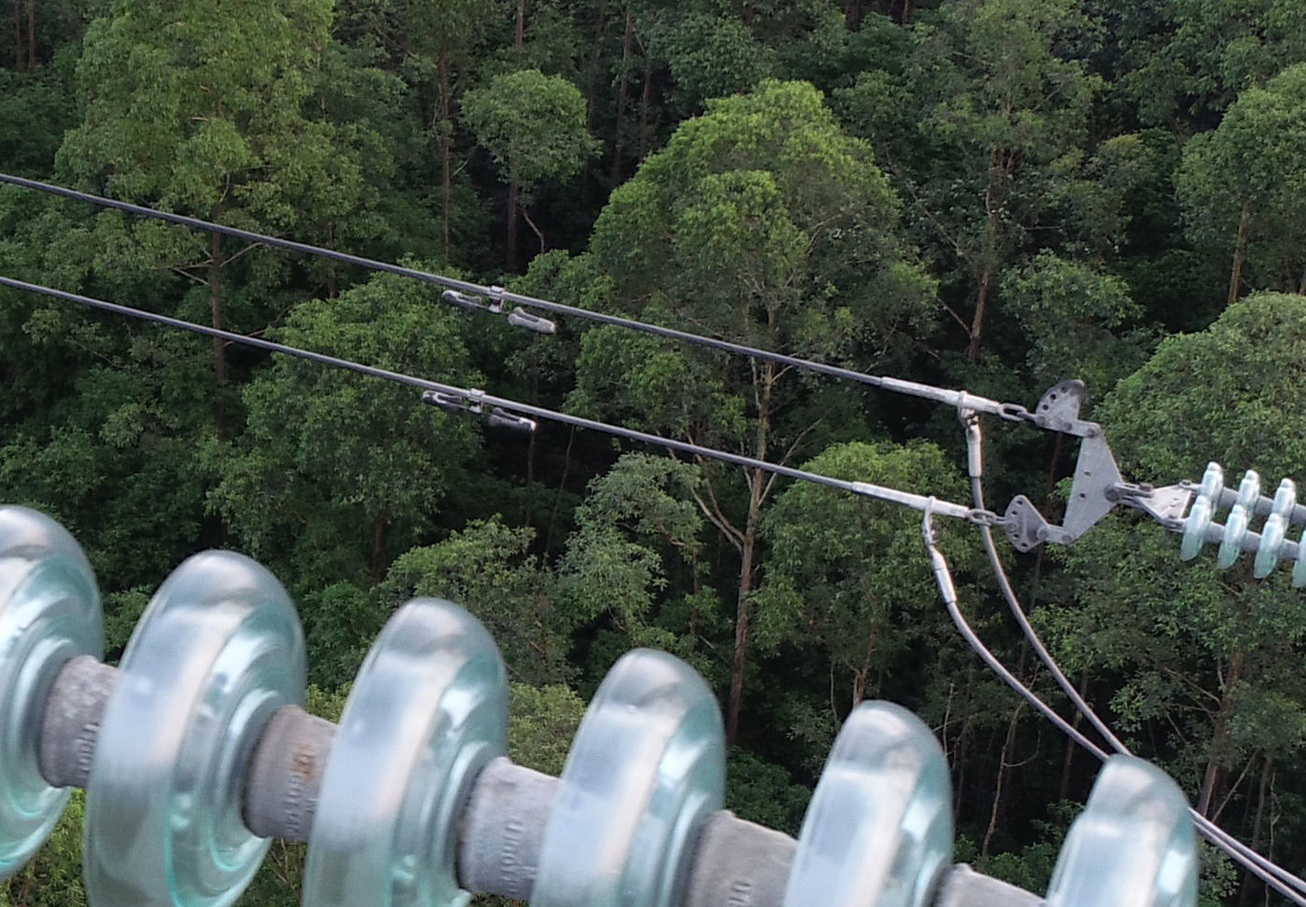damper: (440, 283, 556, 339), (420, 384, 537, 433)
